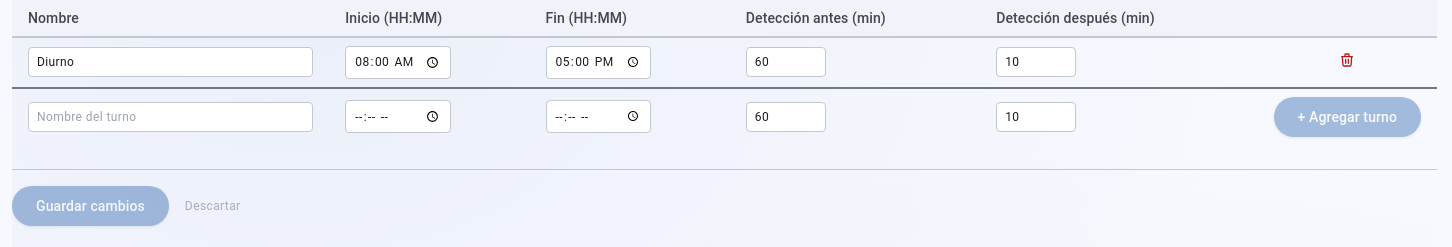
Test: ShiftsTab inline editing › clearing detection after minutes stores 0, not NaN
This screenshot has width=1452, height=247.
Expected: the field showing "Diurno" is shown, 28,47 -> 313,77
Clear the number field named "Detección después (min)": (1036, 62) 996,47 -> 1076,77
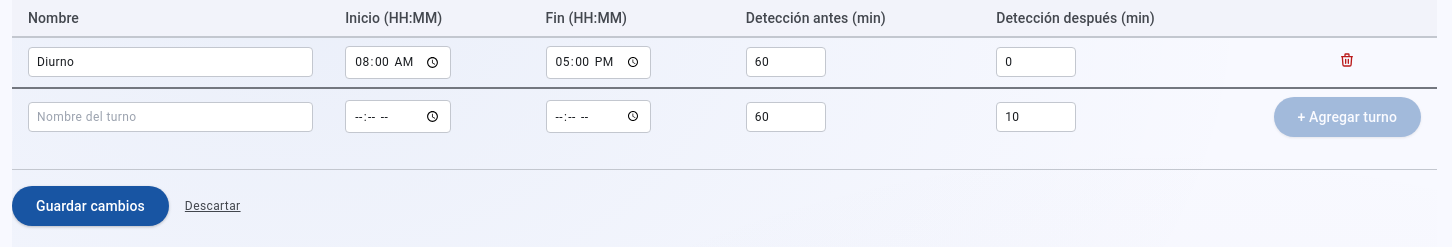
Expected: the number field named "Detección después (min)" holds "0", 996,47 -> 1076,77
